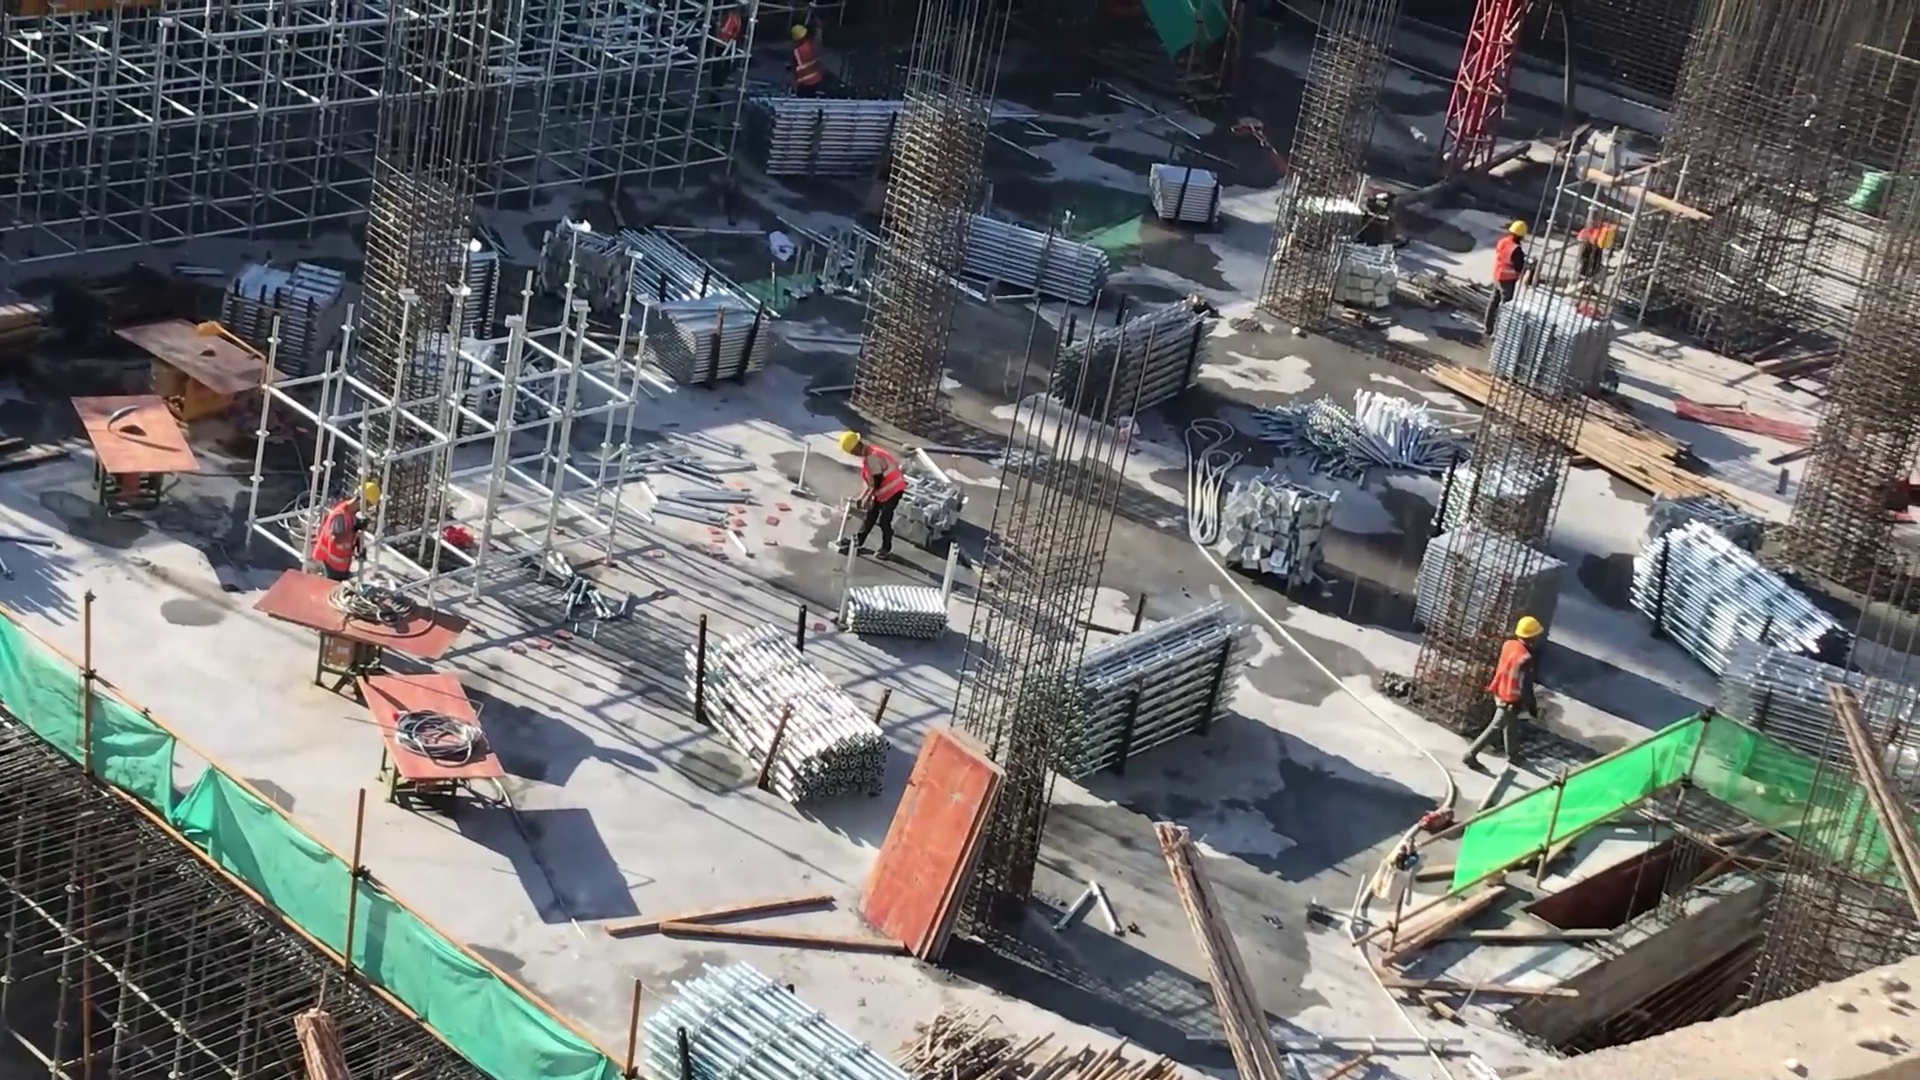board: (847, 734, 1017, 968)
cutter: (68, 389, 198, 535)
helmet: (315, 501, 360, 582), (1490, 637, 1535, 716), (858, 441, 908, 509), (1488, 234, 1524, 292), (837, 426, 867, 466), (351, 476, 383, 512), (1513, 614, 1547, 641), (788, 19, 813, 49), (1506, 214, 1530, 244), (1598, 226, 1616, 255)
person: (1468, 597, 1543, 791), (837, 406, 912, 573), (318, 474, 383, 604), (1480, 213, 1537, 338), (712, 2, 761, 90), (788, 20, 834, 109)
scaffold: (611, 937, 918, 1080), (1026, 598, 1257, 784), (1627, 521, 1868, 698), (672, 622, 874, 810), (1723, 645, 1916, 814), (1048, 296, 1214, 439), (752, 87, 996, 176), (942, 201, 1111, 316), (606, 220, 789, 325), (637, 298, 782, 391), (225, 262, 343, 363), (842, 576, 951, 652), (451, 247, 507, 343)
vest: (792, 42, 824, 92), (716, 9, 743, 51)
